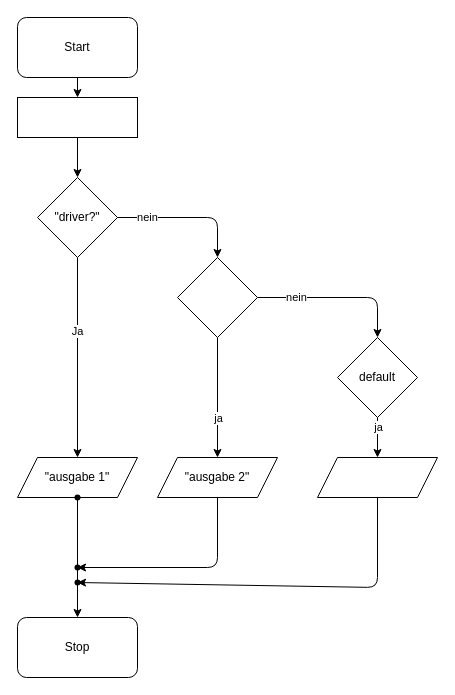
Some shapes in this 455 by 695 pixel diagram are drawn without their labels. The centre of each missing label's shape, as x and y in pixels:
"default": point 377,477
"diver?": point 217,297
job, firstName: point 77,117
